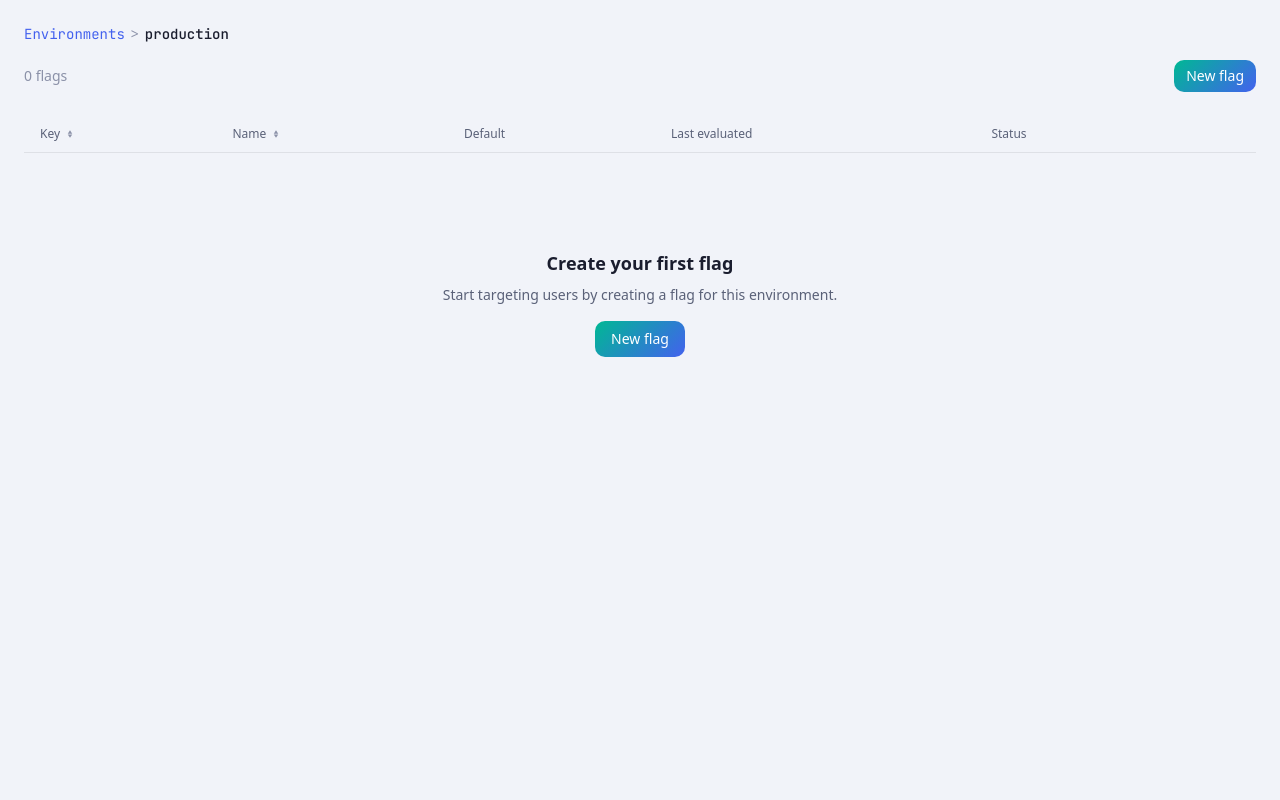
it: CreateFlagModal — post-create success state › Done button in success state closes the modal
The image size is (1280, 800).
Expected: the heading "Create your first flag" is shown, [547,251,733,275]
Click the button "New flag" in the row of "0 flags" at (1215, 76), box [1174,60,1256,92]
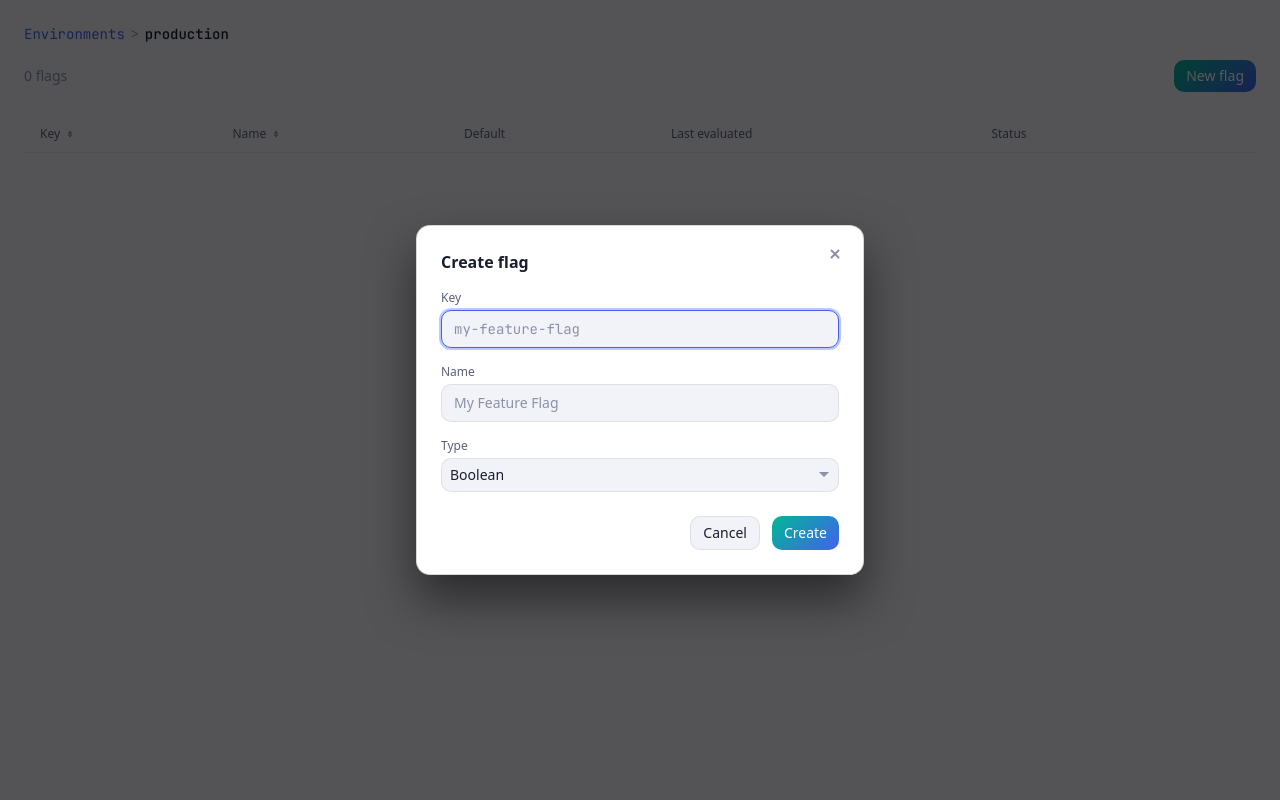
Type "my-new-flag" into the field with placeholder "my-feature-flag" at (640, 329), box [441,310,839,348]
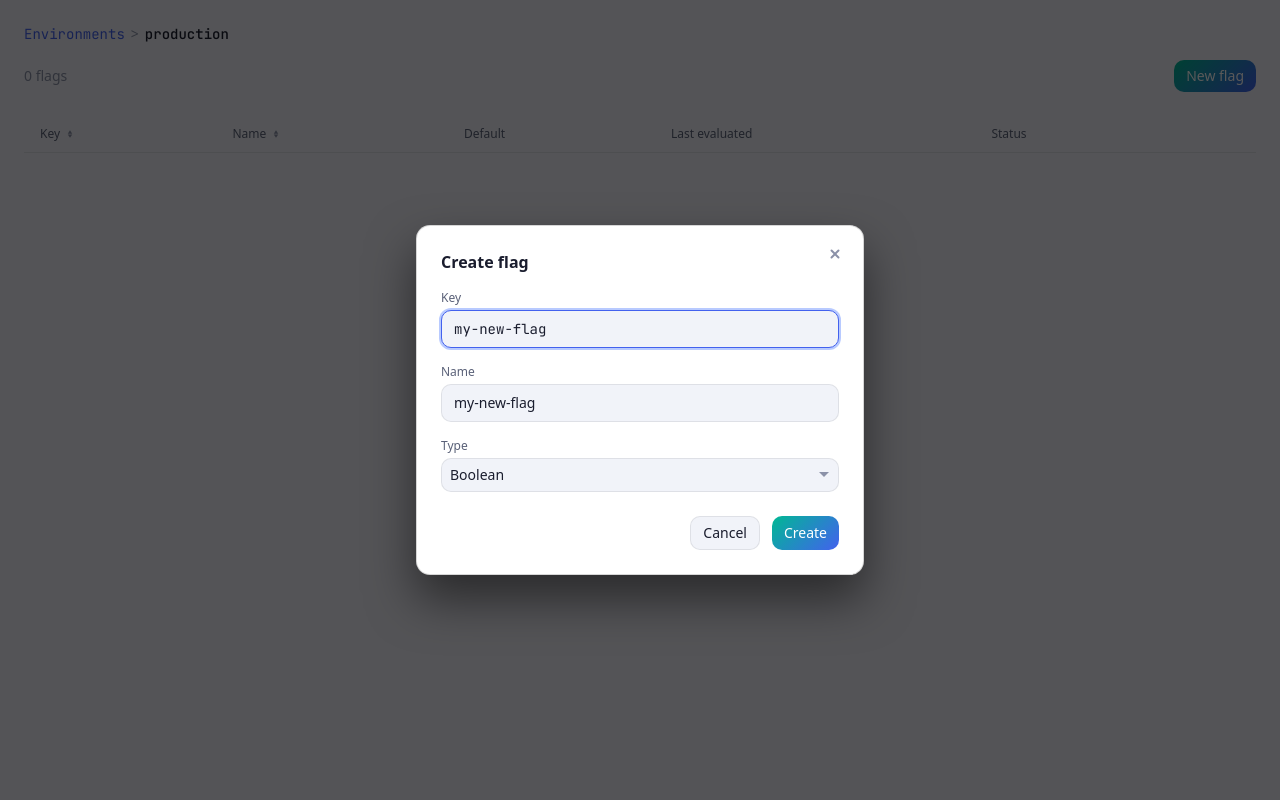
Click the button "Create" at (805, 533), box [772,516,839,550]
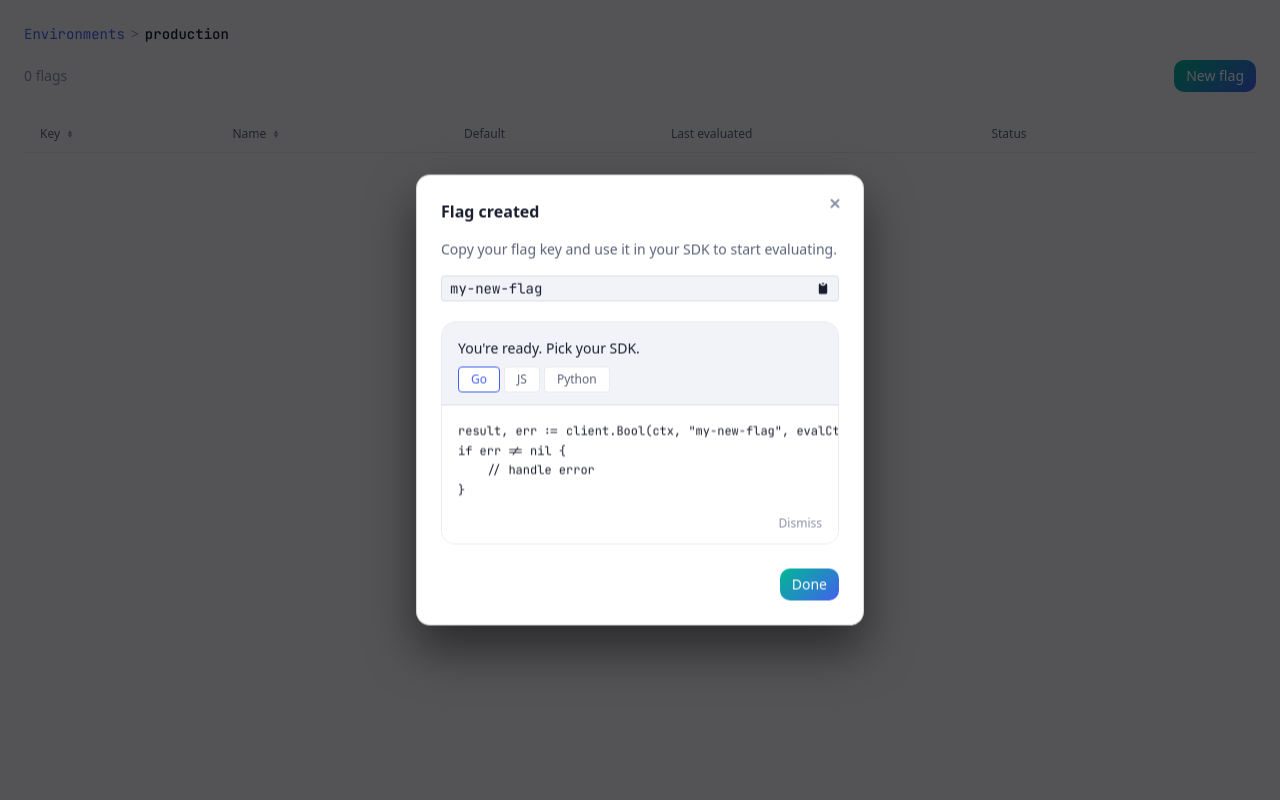
Expected: the heading "Flag created" is shown, [441,200,539,222]
Click the button "Done" at (809, 584), box [780,568,839,600]
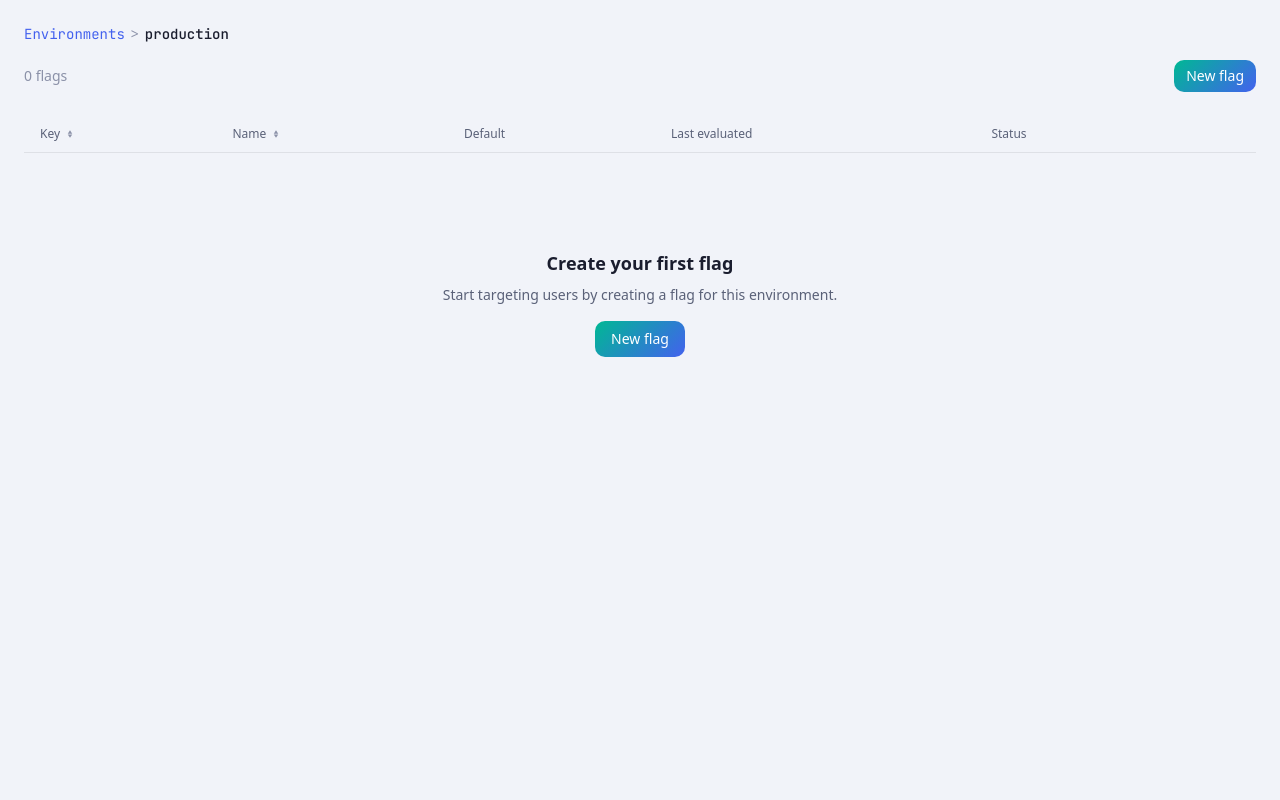
Expected: the heading "Flag created" is gone
